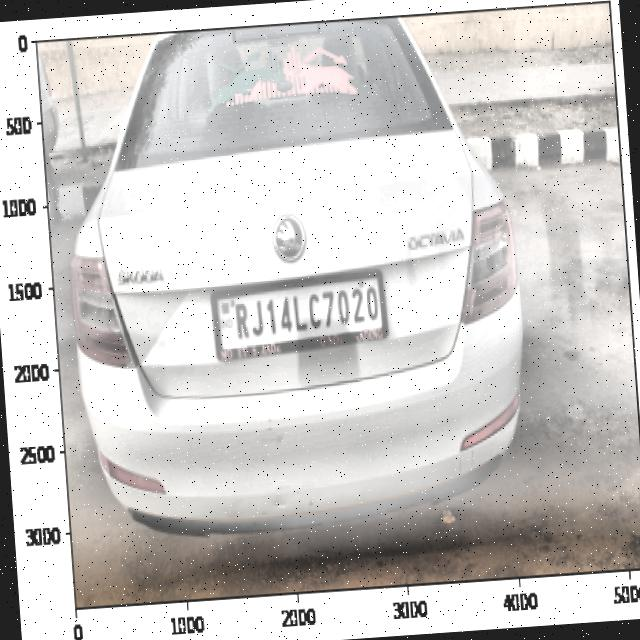license_plate: (227, 276, 384, 347)
